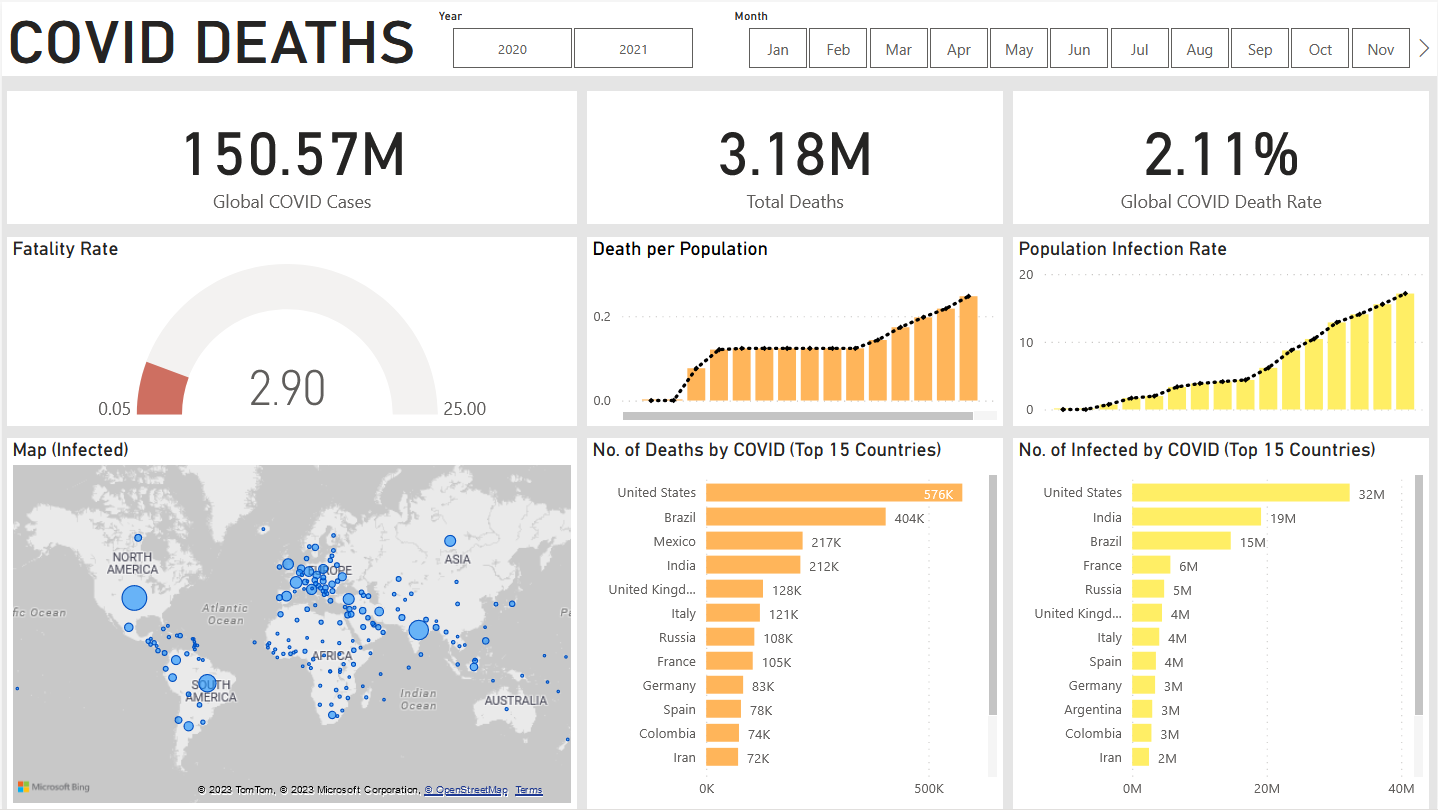

The page's visual inventory and layout, read from the dashboard file:
{"tool":"powerbi","page":{"name":"COVID Deaths","canvas":[1280,720],"ordinal":0},"visuals":[{"type":"textbox","box":[0,0,1279.7,66.3],"z":0},{"type":"card","title":"Global Cases of COVID","fields":{"Values":["Avg(covid_global_details_1.total_deaths)"]},"box":[521.5,79.7,370.9,118.5],"z":1000},{"type":"card","fields":{"Values":["Sum(covid_global_details_1.death_rate)"]},"box":[902.4,79.7,370.9,118.5],"z":2000},{"type":"slicer","fields":{"Values":["covid_deaths_time_1.monthname"]},"box":[640.3,0,639.4,66.3],"z":3000},{"type":"slicer","fields":{"Values":["covid_deaths_time_1.year"]},"box":[376.1,0,264.2,66.3],"z":4000},{"type":"textbox","box":[552.5,241.4,230.3,41],"z":5000},{"type":"barChart","title":"No. of Deaths by COVID (Top 15 Countries)","fields":{"Category":["covid_deaths_time_1.location"],"Y":["Max(covid_deaths_time_1.death_counts)"]},"box":[521.5,388.9,370.9,331.1],"z":6000},{"type":"barChart","title":"No. of Infected by COVID (Top 15 Countries)","fields":{"Category":["covid_deaths_time_1.location"],"Y":["Max(covid_deaths_time_1.infected_counts)"]},"box":[902.4,388.9,370.9,331.1],"z":7000},{"type":"lineStackedColumnComboChart","title":"Population Infection Rate","fields":{"Y2":["Max(covid_deaths_time_1.population_infection_rate)"],"Y":["Max(covid_deaths_time_1.population_infection_rate)"],"Category":["covid_deaths_time_1.date.Variation.Date Hierarchy.Year","covid_deaths_time_1.date.Variation.Date Hierarchy.Quarter","covid_deaths_time_1.date.Variation.Date Hierarchy.Month"]},"box":[902.4,209.6,370.9,168.3],"z":8000},{"type":"lineStackedColumnComboChart","title":"Death per Population","fields":{"Y2":["Max(covid_deaths_time_1.population_death_rate)"],"Category":["covid_deaths_time_1.date.Variation.Date Hierarchy.Year","covid_deaths_time_1.date.Variation.Date Hierarchy.Quarter","covid_deaths_time_1.date.Variation.Date Hierarchy.Month"],"Y":["Max(covid_deaths_time_1.population_death_rate)"]},"box":[521.5,209.3,370.9,168.3],"z":9000},{"type":"gauge","title":"Fatality Rate ","fields":{"Y":["Avg(covid_deaths_time_1.fatality_rate)"],"MinValue":["Min(covid_deaths_1.fatality_rate)"],"MaxValue":["Max(covid_deaths_1.fatality_rate)1"]},"box":[4.4,209.3,508.2,168.3],"z":10000},{"type":"map","title":"Map (Infected)","fields":{"Category":["covid_deaths_time_1.location"],"Size":["Max(covid_deaths_time_1.infected_counts)"]},"box":[4.4,388.7,508.2,331.1],"z":11000},{"type":"card","fields":{"Values":["Max(covid_global_details_1.total_cases)"]},"box":[4.4,79.7,508.2,118.5],"z":12000}]}

Visuals, with their boxes in screenshot pixels (x1, y1, x2, y2), scaled from the page's 1280x720 canvas onto the 1438x810 screenshot:
textbox: crop(0, 0, 1437, 75)
"Global Cases of COVID" card: crop(586, 90, 1003, 223)
card - Sum(covid_global_details_1.death_rate): crop(1014, 90, 1430, 223)
slicer - covid_deaths_time_1.monthname: crop(719, 0, 1437, 75)
slicer - covid_deaths_time_1.year: crop(423, 0, 719, 75)
textbox: crop(621, 272, 879, 318)
"No. of Deaths by COVID (Top 15 Countries)" barChart: crop(586, 438, 1003, 809)
"No. of Infected by COVID (Top 15 Countries)" barChart: crop(1014, 438, 1430, 809)
"Population Infection Rate" lineStackedColumnComboChart: crop(1014, 236, 1430, 425)
"Death per Population" lineStackedColumnComboChart: crop(586, 235, 1003, 425)
"Fatality Rate " gauge: crop(5, 235, 576, 425)
"Map (Infected)" map: crop(5, 437, 576, 809)
card - Max(covid_global_details_1.total_cases): crop(5, 90, 576, 223)
